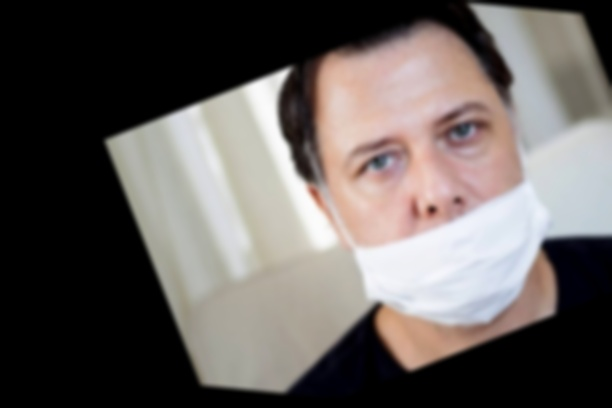mask_weared_incorrect: (308, 20, 552, 331)
